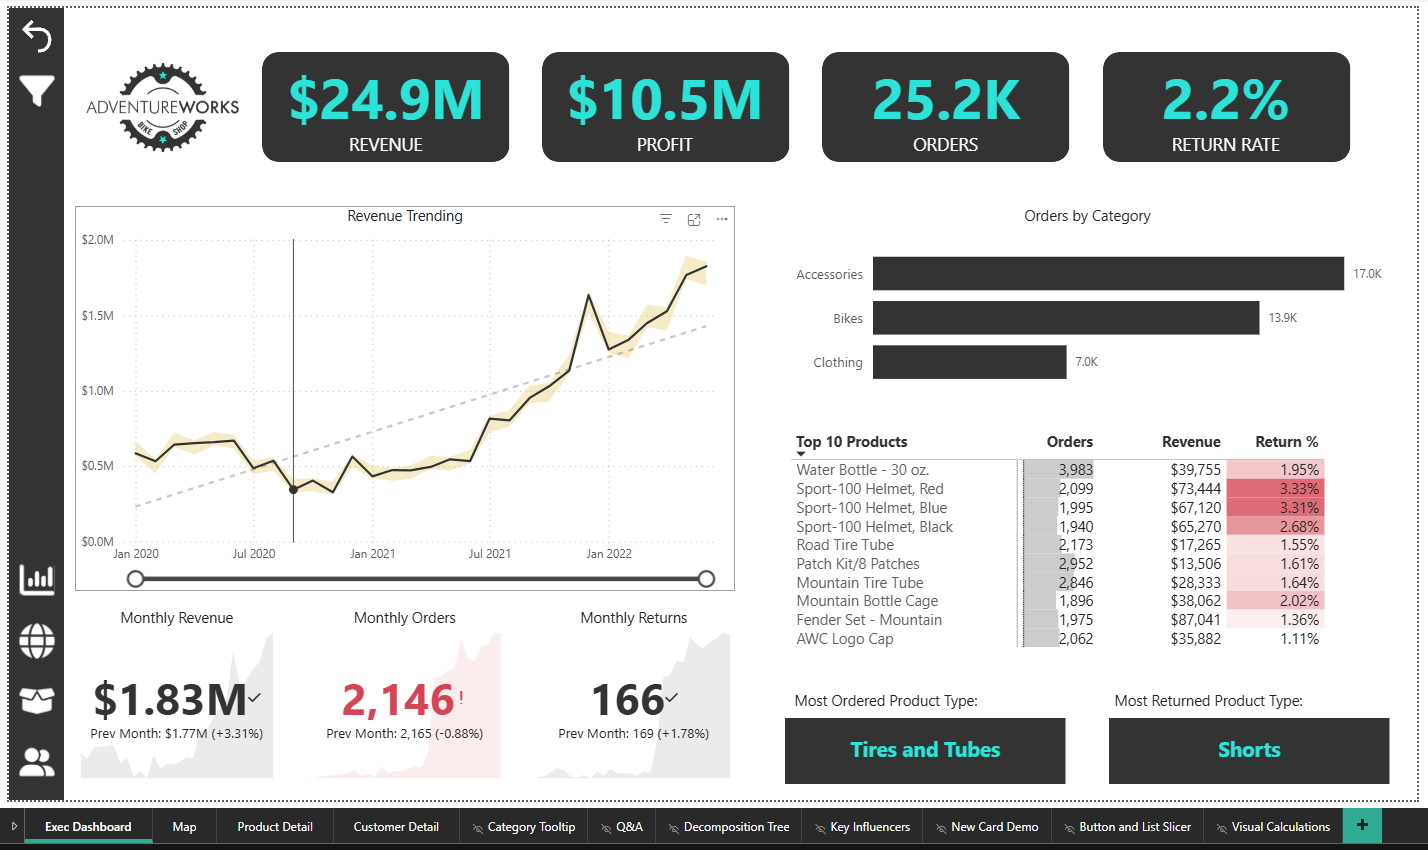

The dashboard page shown, as its layout file describes it:
{"tool":"powerbi","page":{"name":"Exec Dashboard","canvas":[1280,720],"ordinal":0},"visuals":[{"type":"image","title":"AW Logo","box":[50,0,180,180],"z":0},{"type":"group","id":"g1","title":"KPI Backgrounds","box":[230,40,989.2,100],"z":0,"group":"g3"},{"type":"shape","box":[994.2,40,225,100],"z":0,"group":"g1"},{"type":"card","fields":{"Values":["Measure Table.Return Rate"]},"box":[994.2,40,225,100],"z":0,"group":"g2"},{"type":"actionButton","box":[5.5,555,40,40],"z":0,"group":"g4"},{"type":"shape","title":"Left Nav Background","box":[0,0,50,720],"z":1000},{"type":"group","id":"g2","title":"KPI Values","box":[230.2,40,989,100],"z":1000,"group":"g3"},{"type":"card","fields":{"Values":["Measure Table.Total Orders"]},"box":[739.2,40,225,100],"z":1000,"group":"g2"},{"type":"shape","box":[739.5,40,225,100],"z":1000,"group":"g1"},{"type":"actionButton","box":[5.5,500,40,40],"z":1000,"group":"g4"},{"type":"group","id":"g3","title":"KPI","box":[230,40,990,100],"z":2000},{"type":"card","fields":{"Values":["Measure Table.Total Profit"]},"box":[484.2,40,225,100],"z":2000,"group":"g2"},{"type":"shape","box":[484.8,40,225,100],"z":2000,"group":"g1"},{"type":"actionButton","box":[5.5,665,40,40],"z":2000,"group":"g4"},{"type":"shape","box":[230,40,225,100],"z":3000,"group":"g1"},{"type":"card","fields":{"Values":["Measure Table.Total Revenue"]},"box":[230.2,40,225,100],"z":3000,"group":"g2"},{"type":"lineChart","title":"Revenue Trending","fields":{"Category":["Calendar Lookup.Start of Month"],"Y":["Measure Table.Total Revenue"]},"box":[60,180,600,350],"z":3000},{"type":"actionButton","box":[5.5,610,40,40],"z":3000,"group":"g4"},{"type":"kpi","title":"Monthly Revenue","fields":{"Goal":["Measure Table.Previous Month Revenue"],"Indicator":["Measure Table.Total Revenue"],"TrendLine":["Calendar Lookup.Start of Month"]},"box":[60,545,185,160],"z":4000},{"type":"kpi","title":"Monthly Returns","fields":{"Goal":["Measure Table.Previous Month Returns"],"Indicator":["Measure Table.Total Returns"],"TrendLine":["Calendar Lookup.Start of Month"]},"box":[475,545,185,160],"z":5000},{"type":"kpi","title":"Monthly Orders","fields":{"Goal":["Measure Table.Previous Month Orders"],"Indicator":["Measure Table.Total Orders"],"TrendLine":["Calendar Lookup.Start of Month"]},"box":[267.5,545,185,160],"z":6000},{"type":"clusteredBarChart","title":"Orders by Category","fields":{"Category":["Product Categories Lookup.CategoryName"],"Y":["Measure Table.Total Orders"]},"box":[705,180,550,180],"z":7000},{"type":"pivotTable","fields":{"Rows":["Product Lookup.ProductName"],"Values":["Measure Table.Total Orders","Measure Table.Total Revenue","Measure Table.Return Rate"]},"box":[705,380,550,210],"z":8000},{"type":"card","fields":{"Values":["Min(Product Subcategories Lookup.SubcategoryName)"]},"box":[705,645,255,60],"z":9000},{"type":"textbox","box":[705.5,615.5,254.5,30],"z":10000},{"type":"card","fields":{"Values":["Min(Product Subcategories Lookup.SubcategoryName)"]},"box":[1000,645,255,60],"z":11000},{"type":"textbox","box":[1000,615.5,255.5,30],"z":12000},{"type":"actionButton","box":[5,5,40,40],"z":13000},{"type":"group","id":"g4","title":"Navigation Buttons","box":[5.5,500,40,205],"z":14000},{"type":"actionButton","box":[5.5,55,40,40],"z":15000}]}

Visuals, with their boxes on the page's 1280x720 design canvas (x1, y1, x2, y2). These are canvas units, not pixel positions in the 1428x850 screenshot, which may show the page scaled, cropped or inside an application window:
"AW Logo" image: Rect(50, 0, 230, 180)
"KPI Backgrounds" group: Rect(230, 40, 1219, 140)
shape: Rect(994, 40, 1219, 140)
card - Measure Table.Return Rate: Rect(994, 40, 1219, 140)
actionButton: Rect(6, 555, 46, 595)
"Left Nav Background" shape: Rect(0, 0, 50, 720)
"KPI Values" group: Rect(230, 40, 1219, 140)
card - Measure Table.Total Orders: Rect(739, 40, 964, 140)
shape: Rect(740, 40, 964, 140)
actionButton: Rect(6, 500, 46, 540)
"KPI" group: Rect(230, 40, 1220, 140)
card - Measure Table.Total Profit: Rect(484, 40, 709, 140)
shape: Rect(485, 40, 710, 140)
actionButton: Rect(6, 665, 46, 705)
shape: Rect(230, 40, 455, 140)
card - Measure Table.Total Revenue: Rect(230, 40, 455, 140)
"Revenue Trending" lineChart: Rect(60, 180, 660, 530)
actionButton: Rect(6, 610, 46, 650)
"Monthly Revenue" kpi: Rect(60, 545, 245, 705)
"Monthly Returns" kpi: Rect(475, 545, 660, 705)
"Monthly Orders" kpi: Rect(268, 545, 452, 705)
"Orders by Category" clusteredBarChart: Rect(705, 180, 1255, 360)
pivotTable - Product Lookup.ProductName x Measure Table.Total Orders: Rect(705, 380, 1255, 590)
card - Min(Product Subcategories Lookup.SubcategoryName): Rect(705, 645, 960, 705)
textbox: Rect(706, 616, 960, 646)
card - Min(Product Subcategories Lookup.SubcategoryName): Rect(1000, 645, 1255, 705)
textbox: Rect(1000, 616, 1256, 646)
actionButton: Rect(5, 5, 45, 45)
"Navigation Buttons" group: Rect(6, 500, 46, 705)
actionButton: Rect(6, 55, 46, 95)
